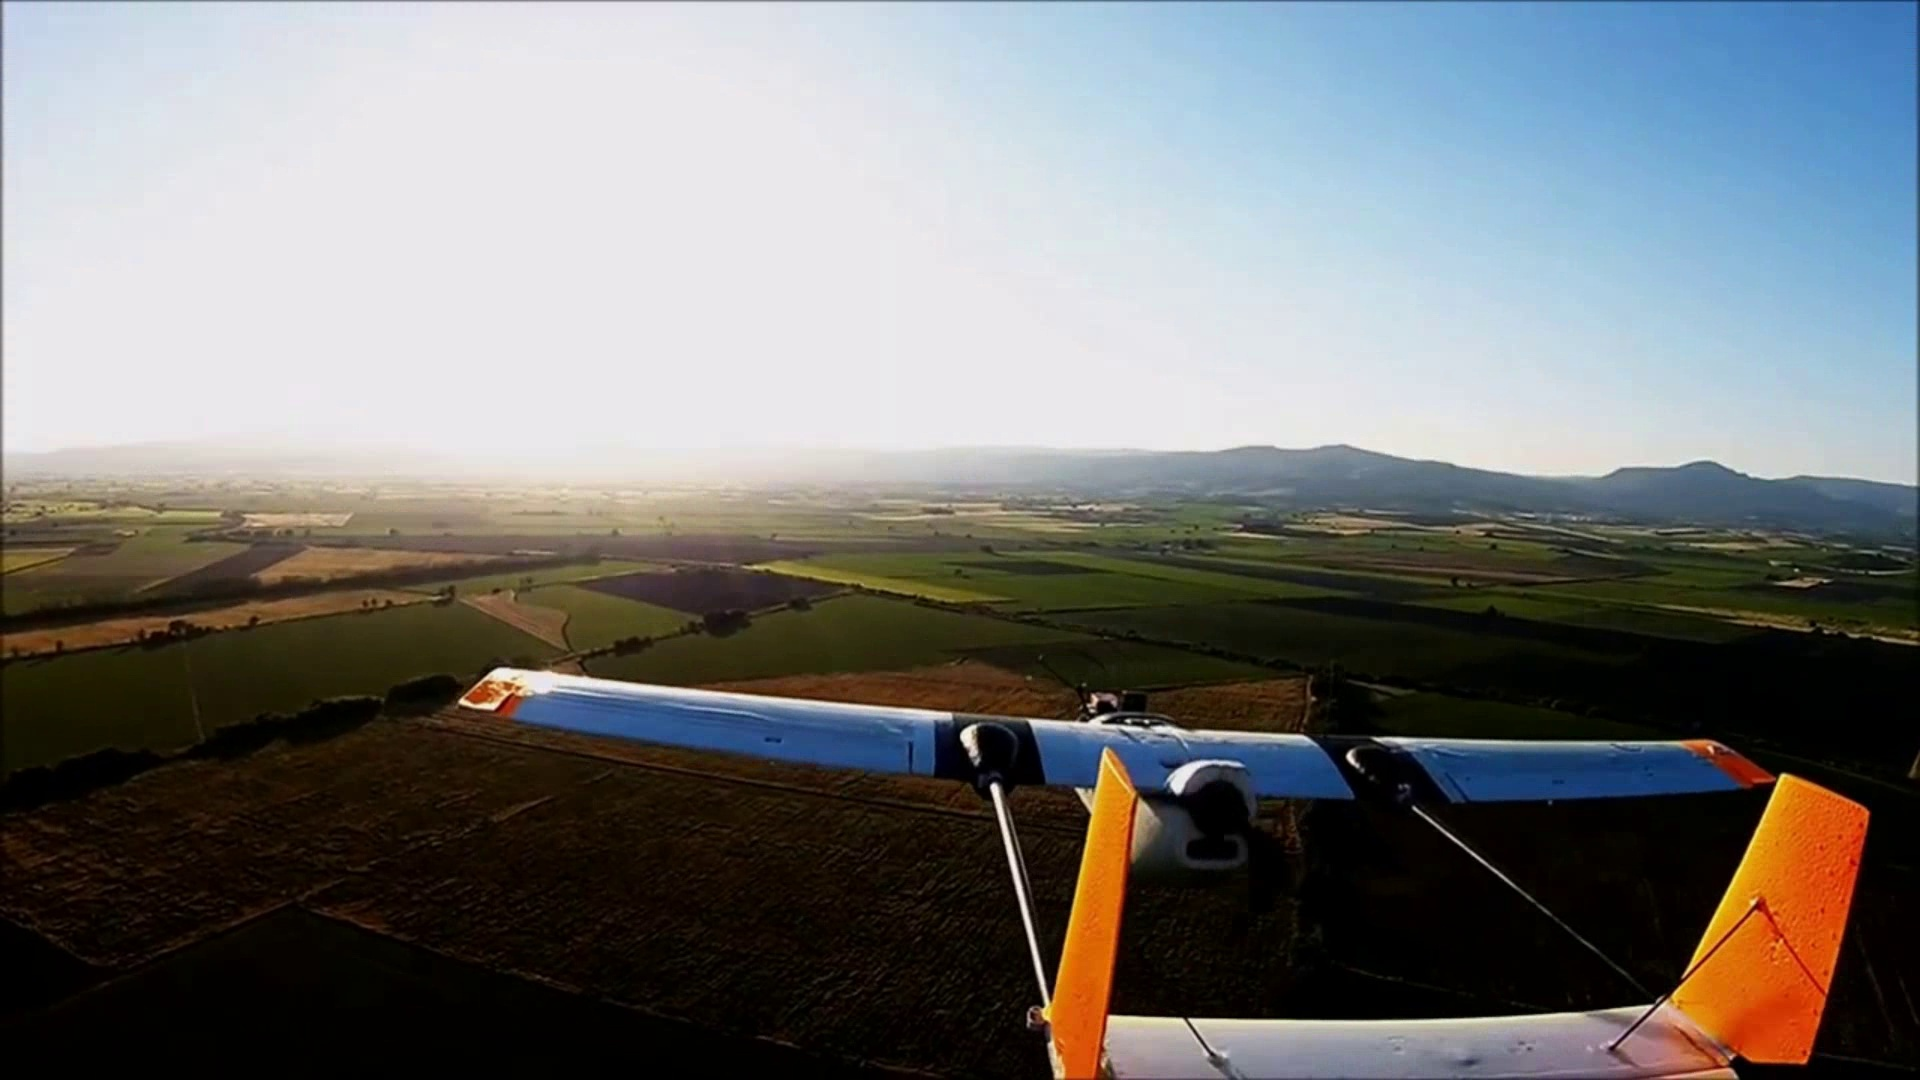airplane: (434, 664, 1913, 1070)
